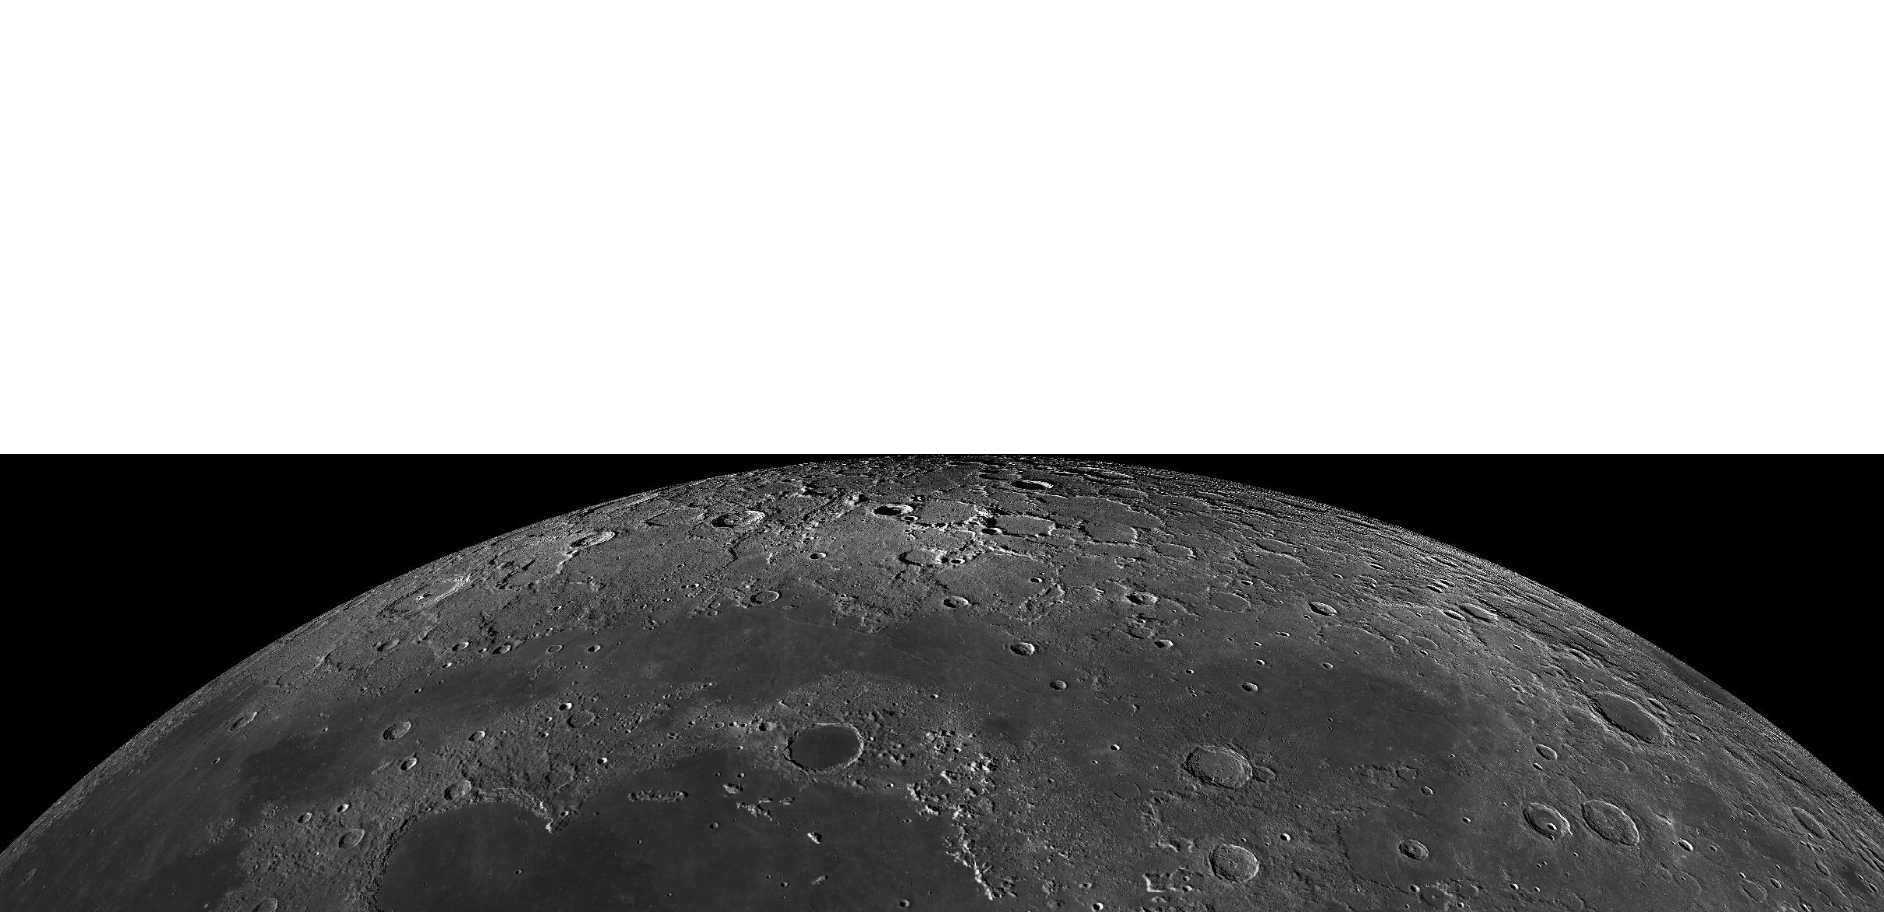crater: (1579, 684, 1680, 759), (375, 566, 484, 628), (1169, 735, 1265, 800), (776, 715, 874, 777), (1572, 791, 1655, 854), (1773, 795, 1842, 854), (1202, 839, 1272, 892), (1512, 792, 1575, 846), (700, 497, 773, 540), (1402, 625, 1450, 667), (861, 495, 928, 524), (1003, 472, 1062, 503), (369, 714, 424, 746), (564, 703, 606, 739), (743, 584, 792, 613), (223, 707, 272, 735), (1408, 780, 1443, 806)
